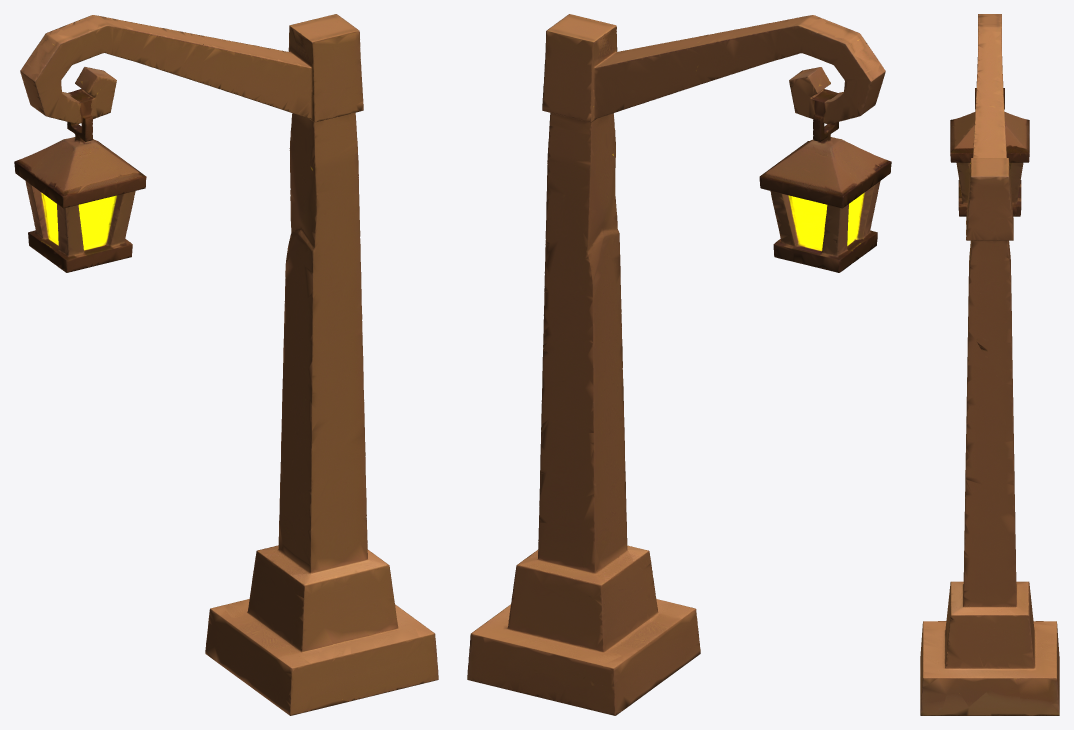
Rendered from Object_Lantern.fbx.
3 views of the same model, side by side, from view 1: azimuth 30°, elevation 25°; view 2: azimuth 150°, elevation 25°; view 3: azimuth 270°, elevation 25° (orthographic). The views are drawn at different scales.
Parts seen in each view (by area): view 1: Mesh_0; view 2: Mesh_0; view 3: Mesh_0.
Boxes of the visible parts, <box> form: Mesh_0: <box>14,14,438,715</box>; Mesh_0: <box>467,14,891,715</box>; Mesh_0: <box>920,14,1059,715</box>.
Bounding box in the file's own units: 105 × 190 × 41.96.
